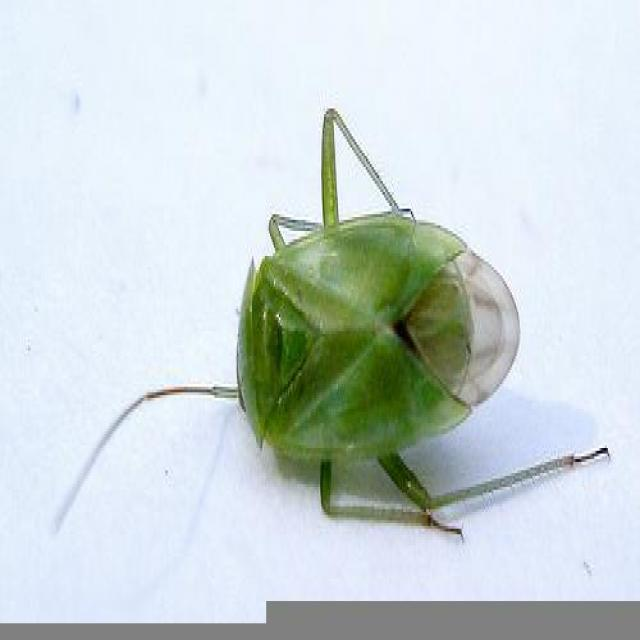Miridae-Adult-: (146, 100, 603, 551)
